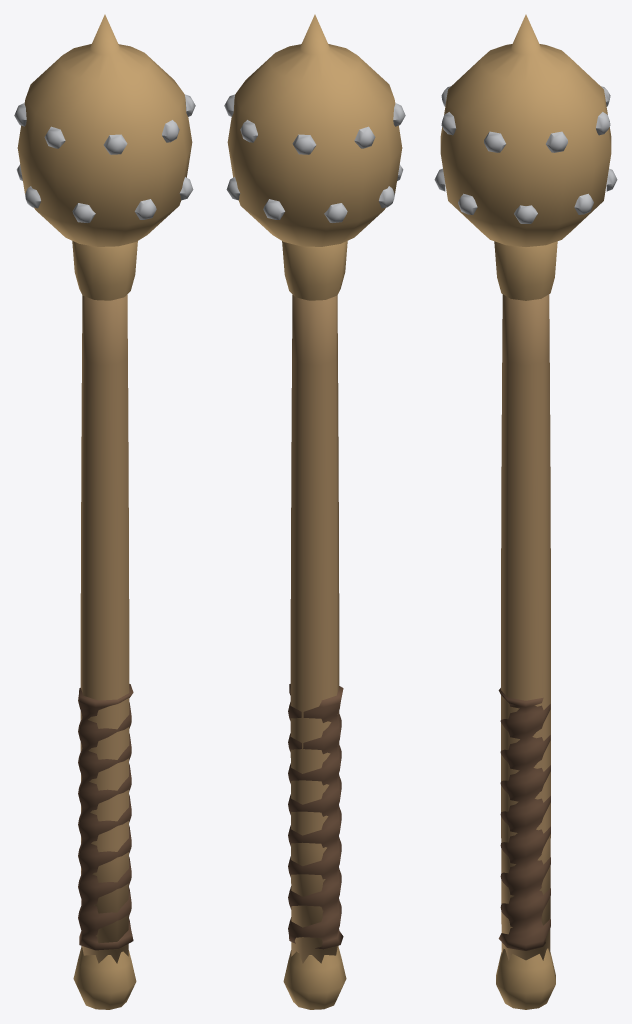
The model's file is battle-aspergillum.glb.
3 renders of one model, left to right at view 1: azimuth 30°, elevation 25°; view 2: azimuth 150°, elevation 25°; view 3: azimuth 270°, elevation 25°, orthographic.
Parts seen in each view (by area): view 1: battle-aspergillum; view 2: battle-aspergillum; view 3: battle-aspergillum.
Boxes of the visible parts, x1,y1,x2,y2 form: battle-aspergillum: [14, 14, 195, 1009]; battle-aspergillum: [224, 14, 405, 1009]; battle-aspergillum: [434, 14, 617, 1009].
Size of the model in its own units: 0.2404 by 1.44 by 0.2404.
